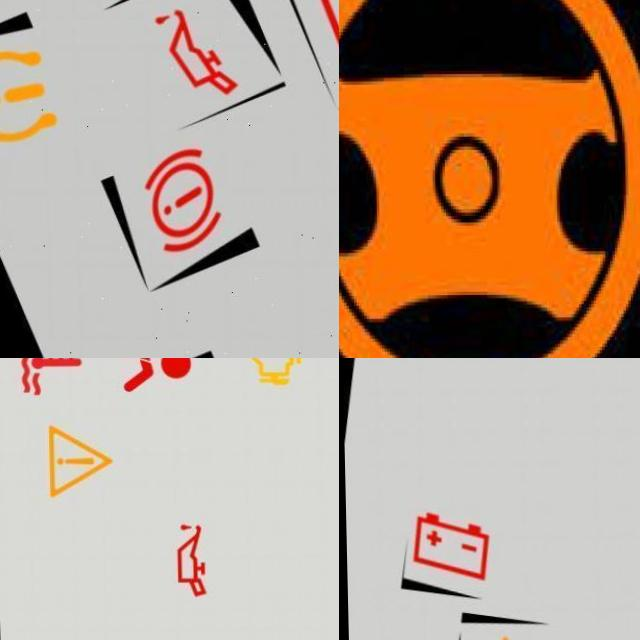Electronic Power Steering: (339, 0, 640, 358)
